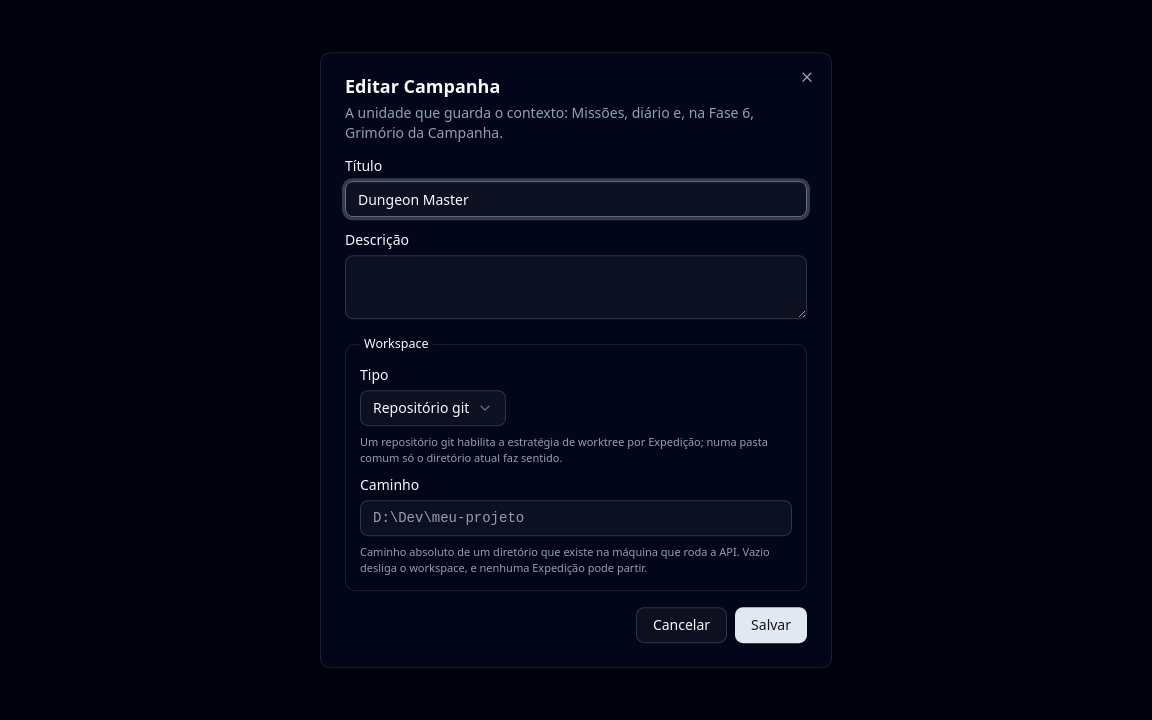
Test: diálogo de Project › mostra o detail do problem details quando a API recusa o caminho
This screenshot has width=1152, height=720.
Type "/nao/existe" into the field labelled "Caminho" at (576, 518), box [360,500,792,536]
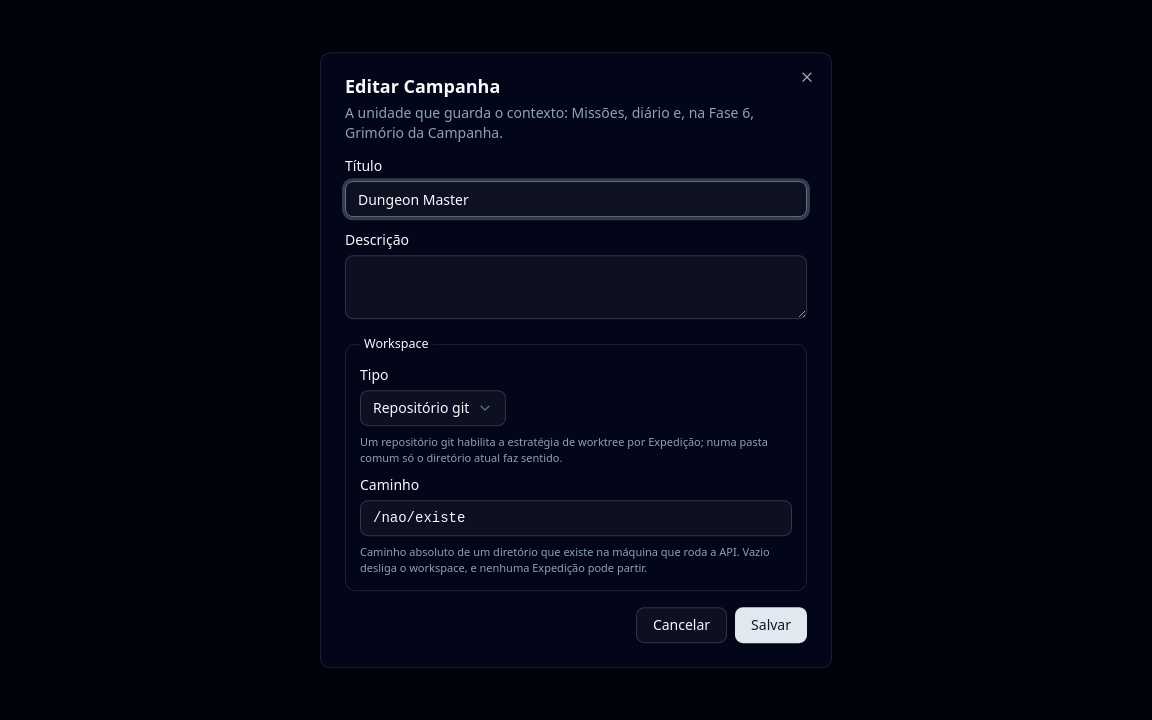
Click the button "Salvar" at (771, 625), box [735,607,807,643]
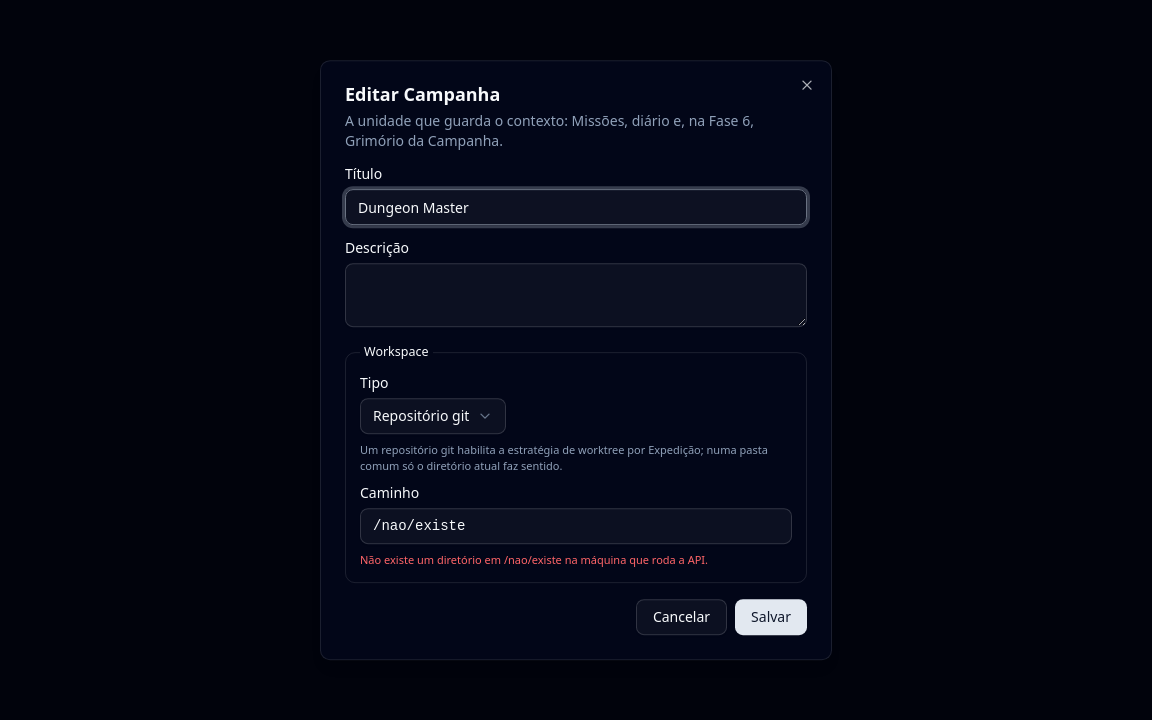
Expected: the message shows "Não existe um diretório em /nao/existe", [360,552,708,567]
